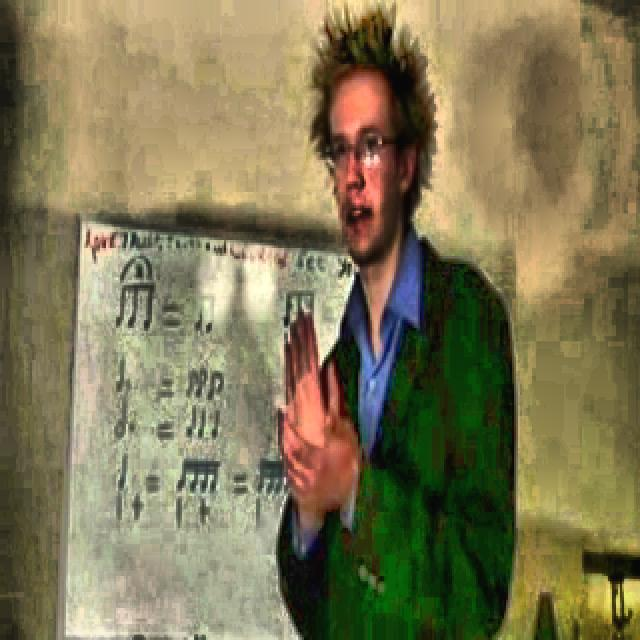F: (269, 4, 522, 636)
